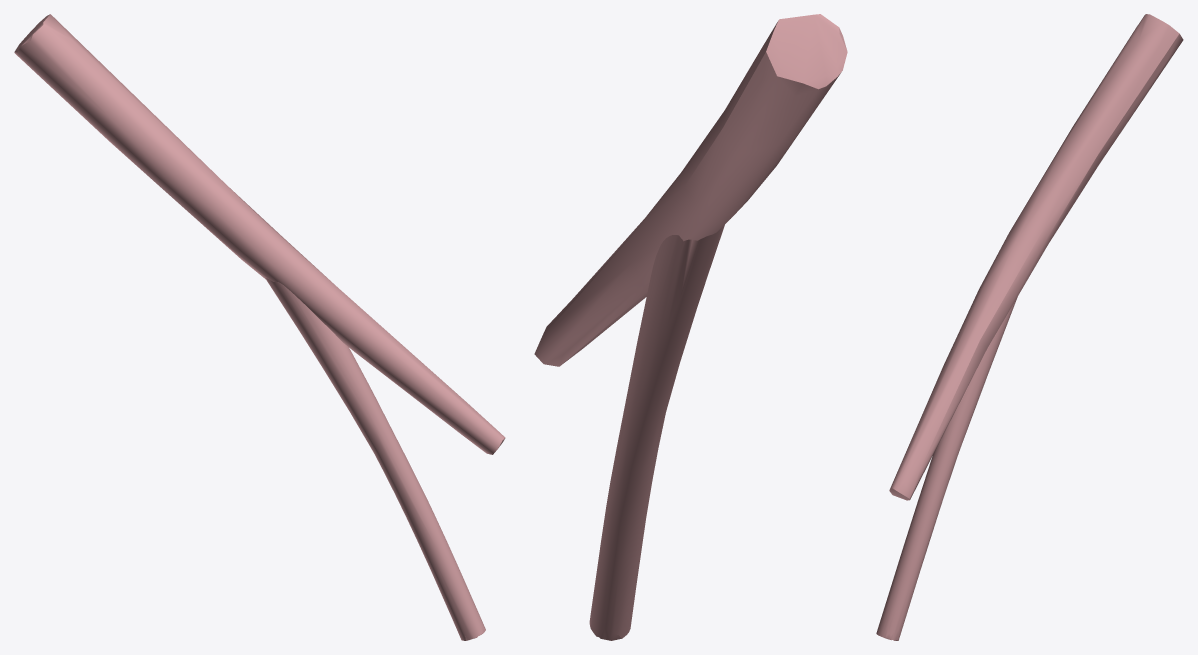
Rendered from fma68218_cx157.glb.
3 renders of one model, left to right at view 1: azimuth 30°, elevation 25°; view 2: azimuth 150°, elevation 25°; view 3: azimuth 270°, elevation 25°, orthographic. The views are drawn at different scales.
Parts seen in each view (by area): view 1: FMA68218_CX157; view 2: FMA68218_CX157; view 3: FMA68218_CX157.
Boxes of the visible parts, x1,y1,x2,y2 form: FMA68218_CX157: (14,14,505,640); FMA68218_CX157: (534,14,847,640); FMA68218_CX157: (876,14,1183,640).
Size of the model in its own units: 0.0293 by 0.0475 by 0.0261.
